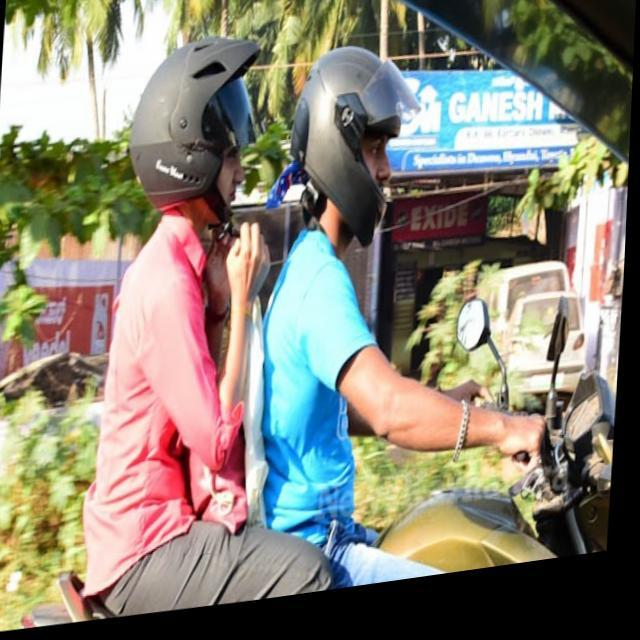Helmet: (103, 28, 272, 238), (284, 40, 428, 254)
